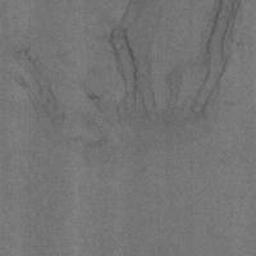Water spot: (0, 0, 247, 177)
